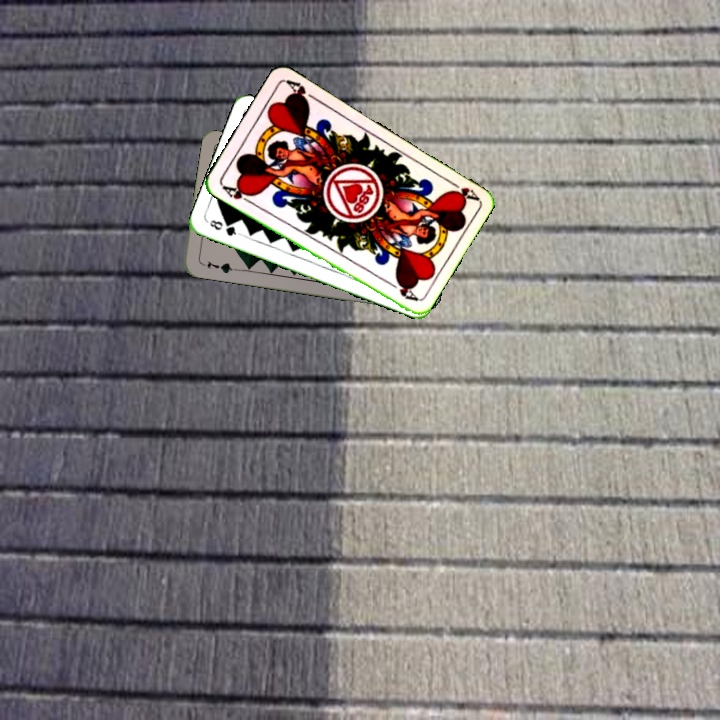G7: (197, 257, 238, 276)
G8: (205, 216, 243, 239)
HA: (443, 175, 480, 204), (218, 181, 257, 206)
